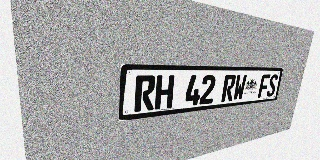2: (199, 75, 216, 105)
4: (184, 75, 203, 106)
F: (258, 74, 270, 98)
H: (154, 75, 175, 110)
R: (134, 75, 156, 112), (221, 75, 236, 102)
S: (266, 74, 278, 97)
W: (232, 74, 247, 101)
